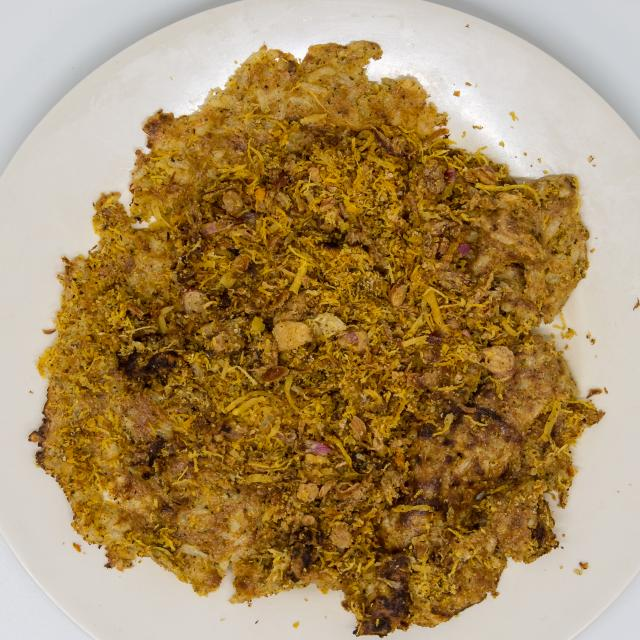Kerak-Telor: (16, 24, 595, 632)
